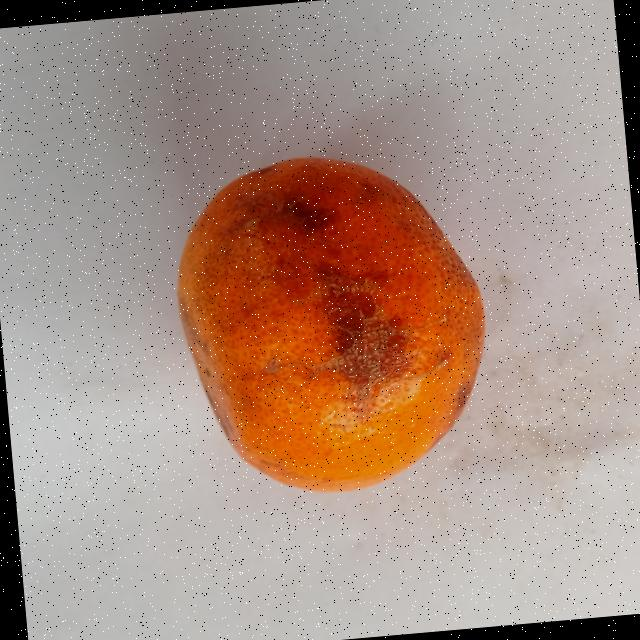overripe: (155, 136, 510, 514)
